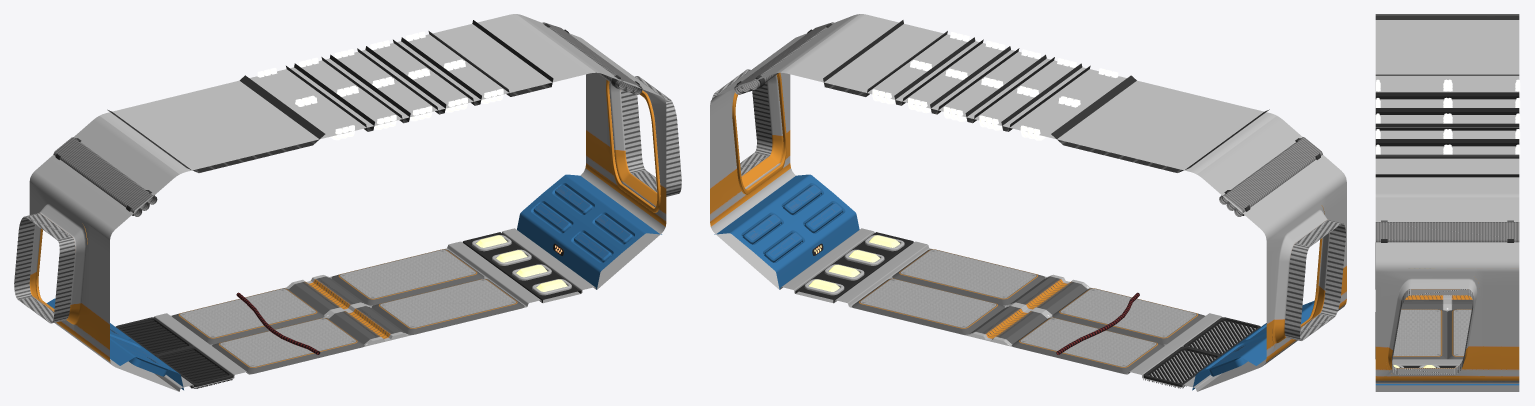
File: MOD_2.fbx
3 views of the same model, side by side, from view 1: azimuth 30°, elevation 25°; view 2: azimuth 150°, elevation 25°; view 3: azimuth 270°, elevation 25° (orthographic). The views are drawn at different scales.
Visible parts, largest first — view 1: MOD_2; view 2: MOD_2; view 3: MOD_2.
Boxes of the visible parts, x1,y1,x2,y2 form: MOD_2: (14,14,681,391); MOD_2: (710,14,1346,391); MOD_2: (1375,14,1520,391).
Size of the model in its own units: 8.72 by 3.09 by 2.02.
3 materials, 1 textured.
